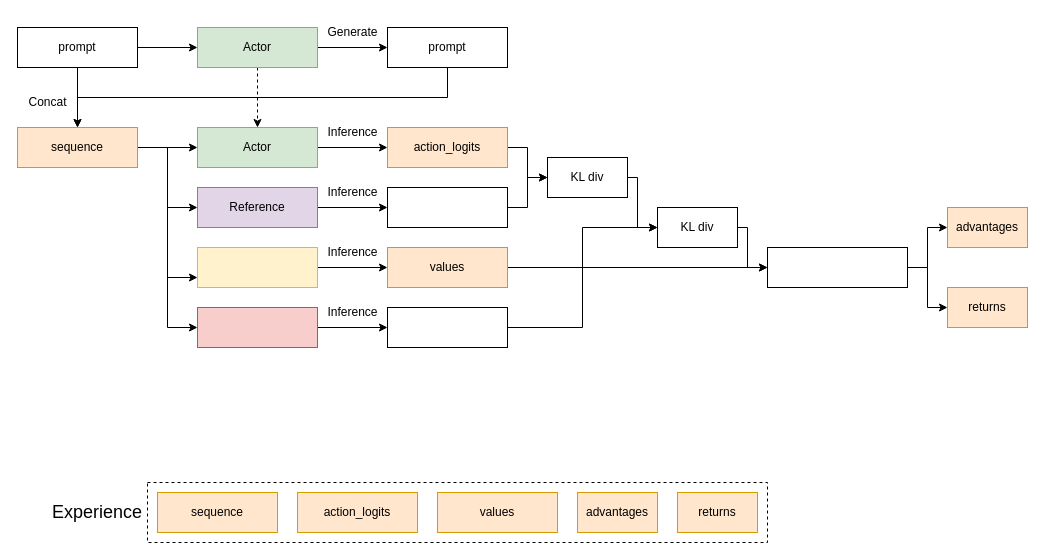
Image size: 1045x560. Some labels were removed from this diagram. Each missing label, with the box of its shape:
advantages_and_returns: (766, 246, 908, 288)
Critic: (196, 246, 318, 288)
ref_logits: (386, 186, 508, 228)
Reward: (196, 306, 318, 348)
scores: (386, 306, 508, 348)
